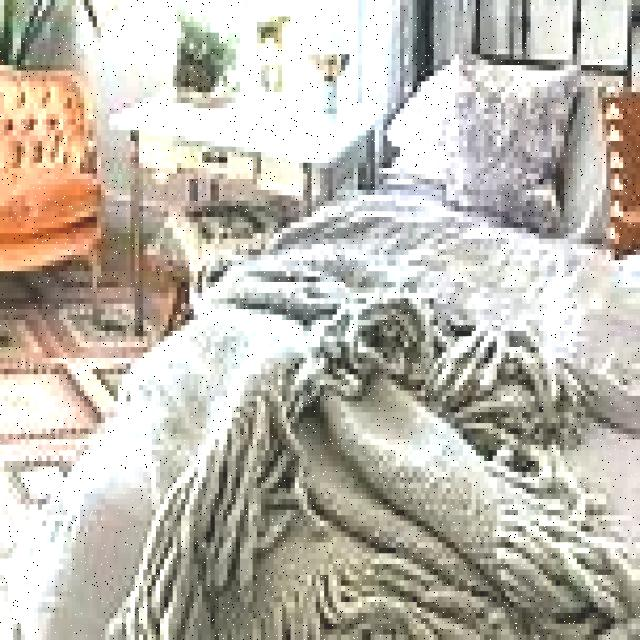bed: (33, 53, 640, 640)
